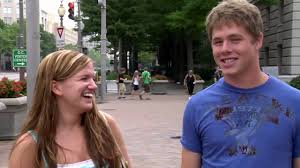no-mask: (198, 4, 268, 81), (44, 54, 105, 114)
